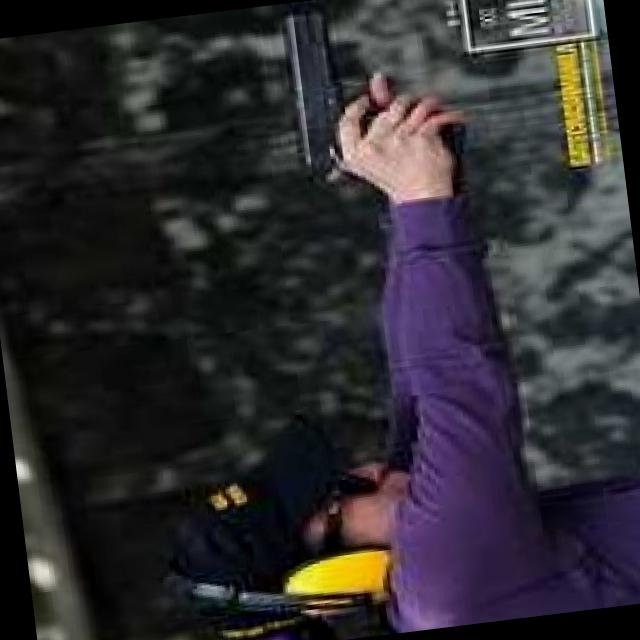handgun: (271, 0, 472, 190)
